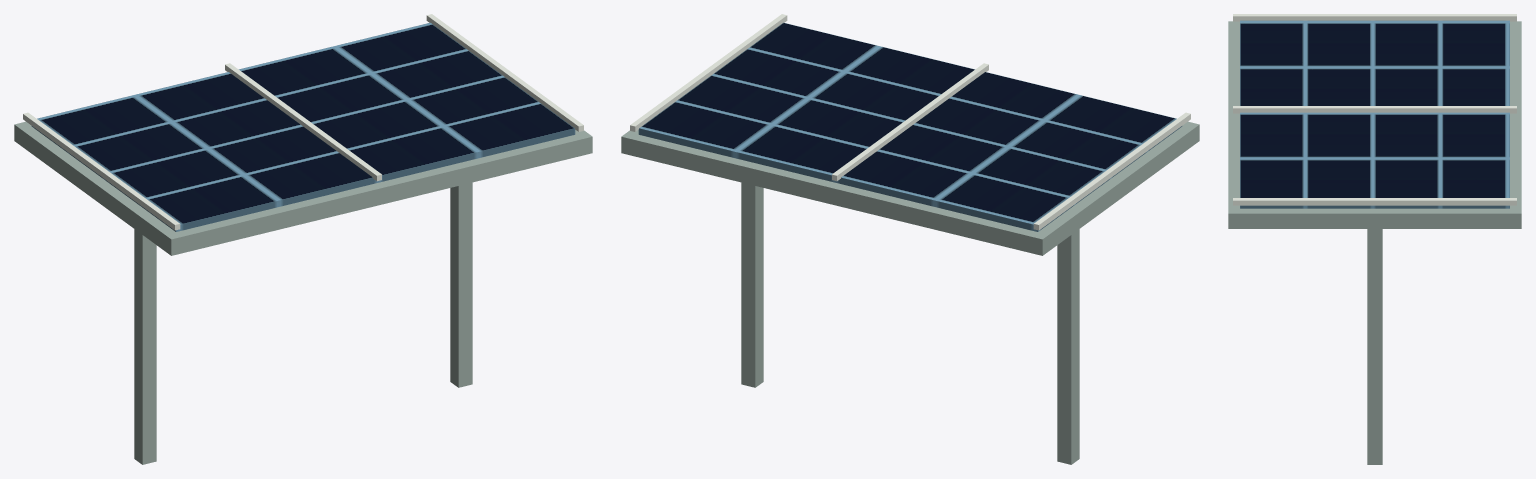
Rendered from PLAZA-011.glb.
The picture shows the model from 3 angles, left to right: view 1: azimuth 30°, elevation 25°; view 2: azimuth 150°, elevation 25°; view 3: azimuth 270°, elevation 25°; orthographic projection. The views are drawn at different scales.
Visible parts, largest first — view 1: PLAZA-011; view 2: PLAZA-011; view 3: PLAZA-011.
Part boxes in pixels (bbox=[...]): PLAZA-011: bbox=[14, 14, 592, 464]; PLAZA-011: bbox=[621, 14, 1199, 464]; PLAZA-011: bbox=[1228, 14, 1521, 464].
Size of the model in its own units: 4.8 by 3.29 by 3.1.
3 materials, 1 textured.
